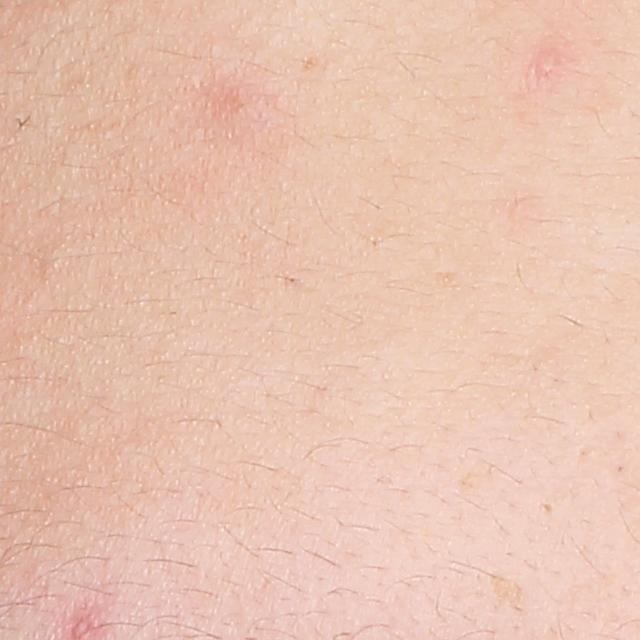papule: (524, 42, 564, 89)
